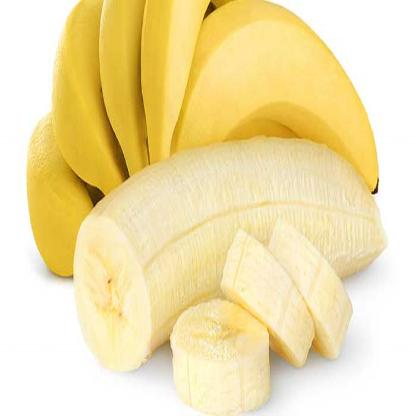banana: (73, 144, 395, 368), (160, 2, 390, 232), (21, 88, 110, 280)
